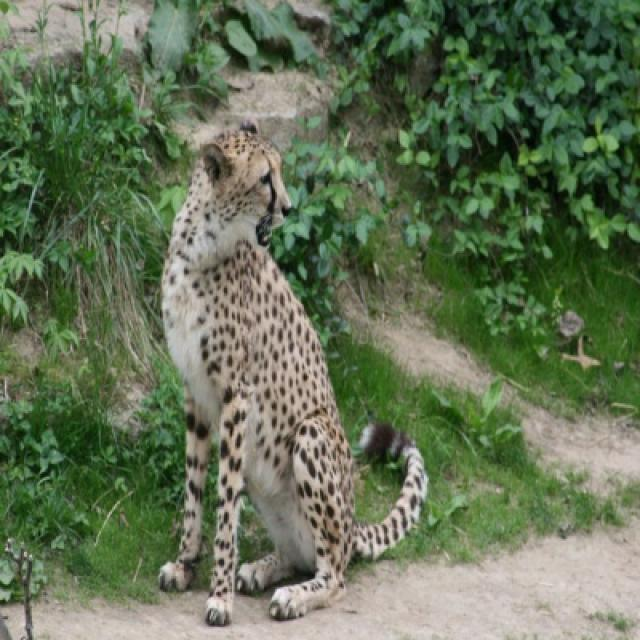Cheetah: (152, 116, 424, 626)
